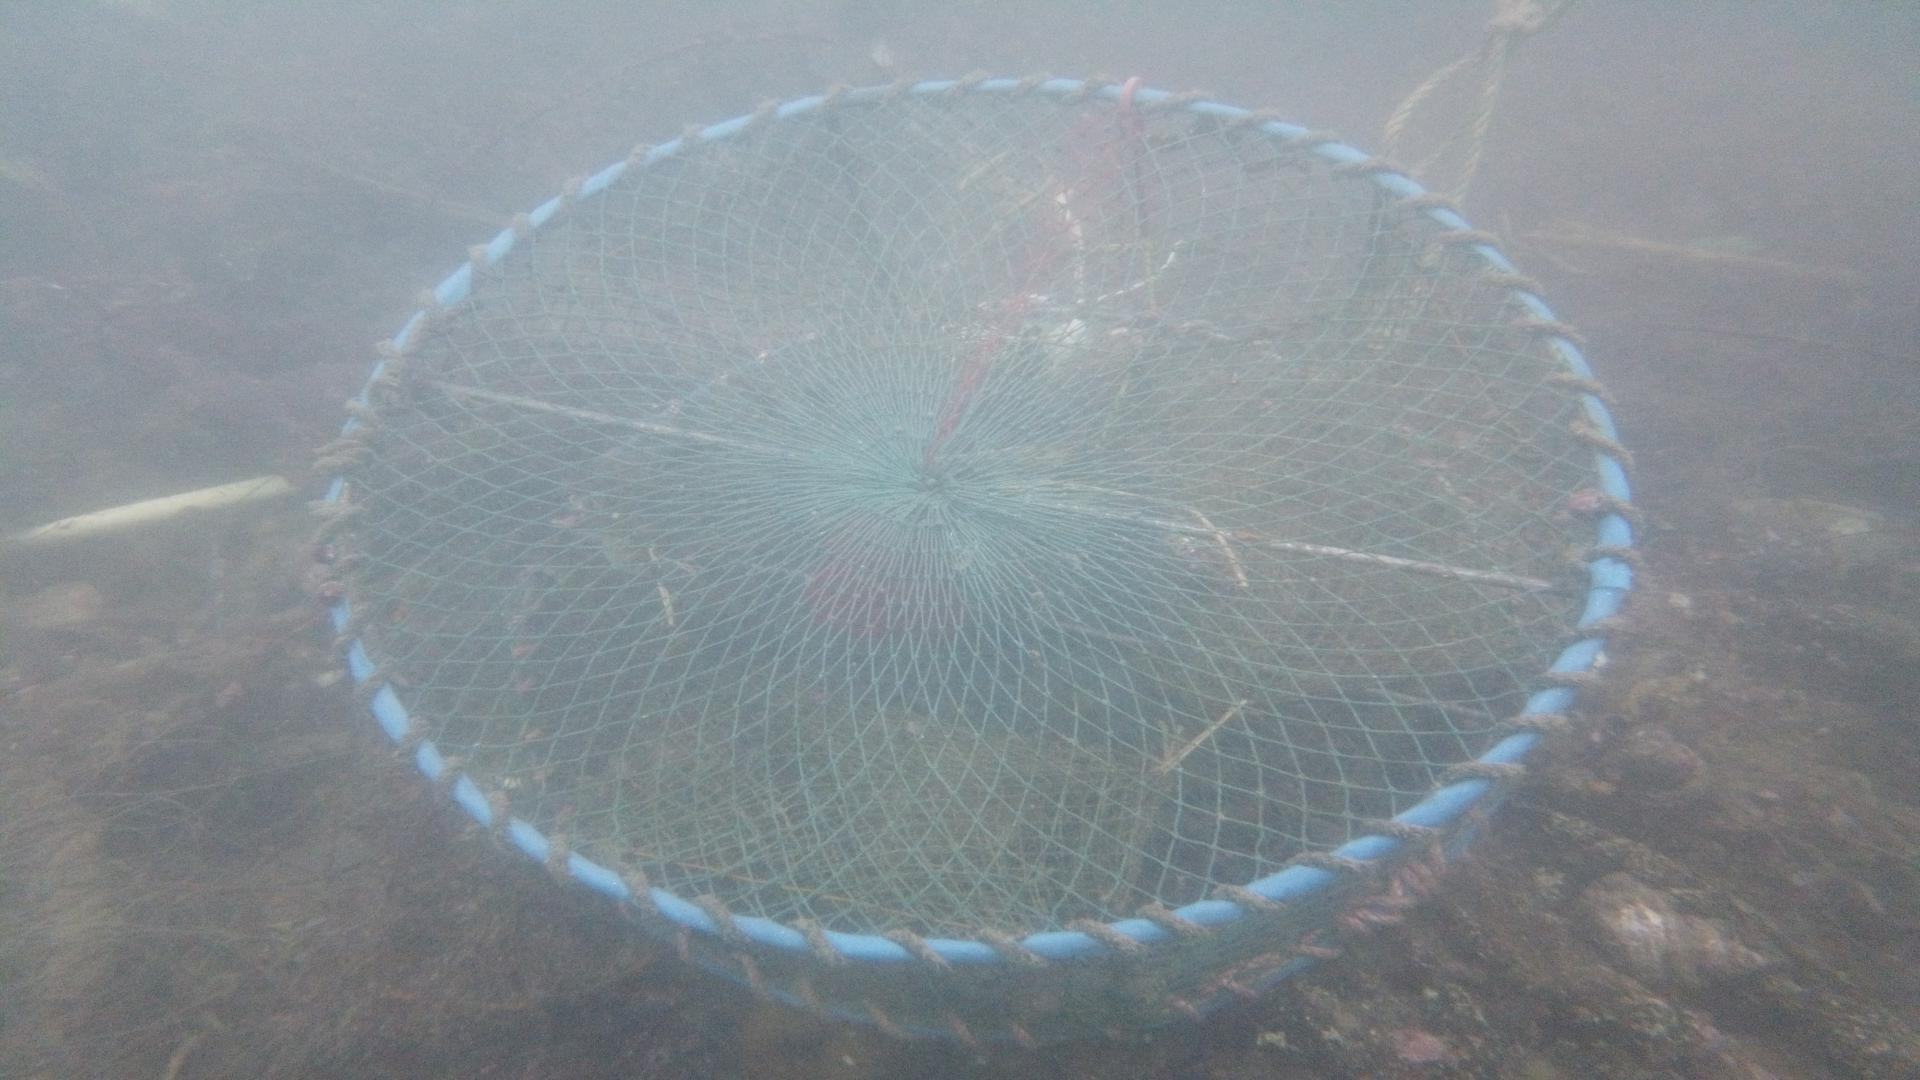bundle of ropes: (1360, 0, 1592, 225)
circular fish trap: (309, 59, 1644, 1054)
